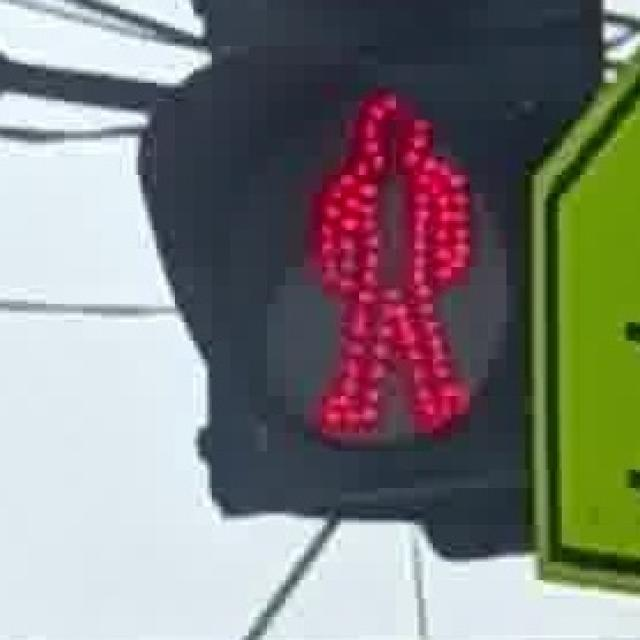red_light: (278, 64, 496, 442)
